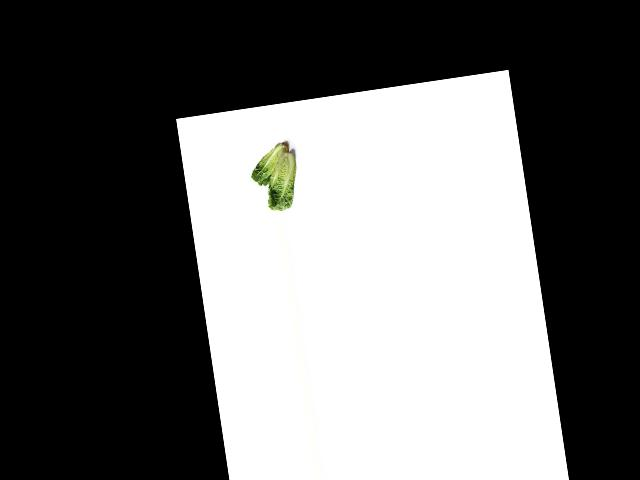lettuce: (246, 138, 295, 187)
